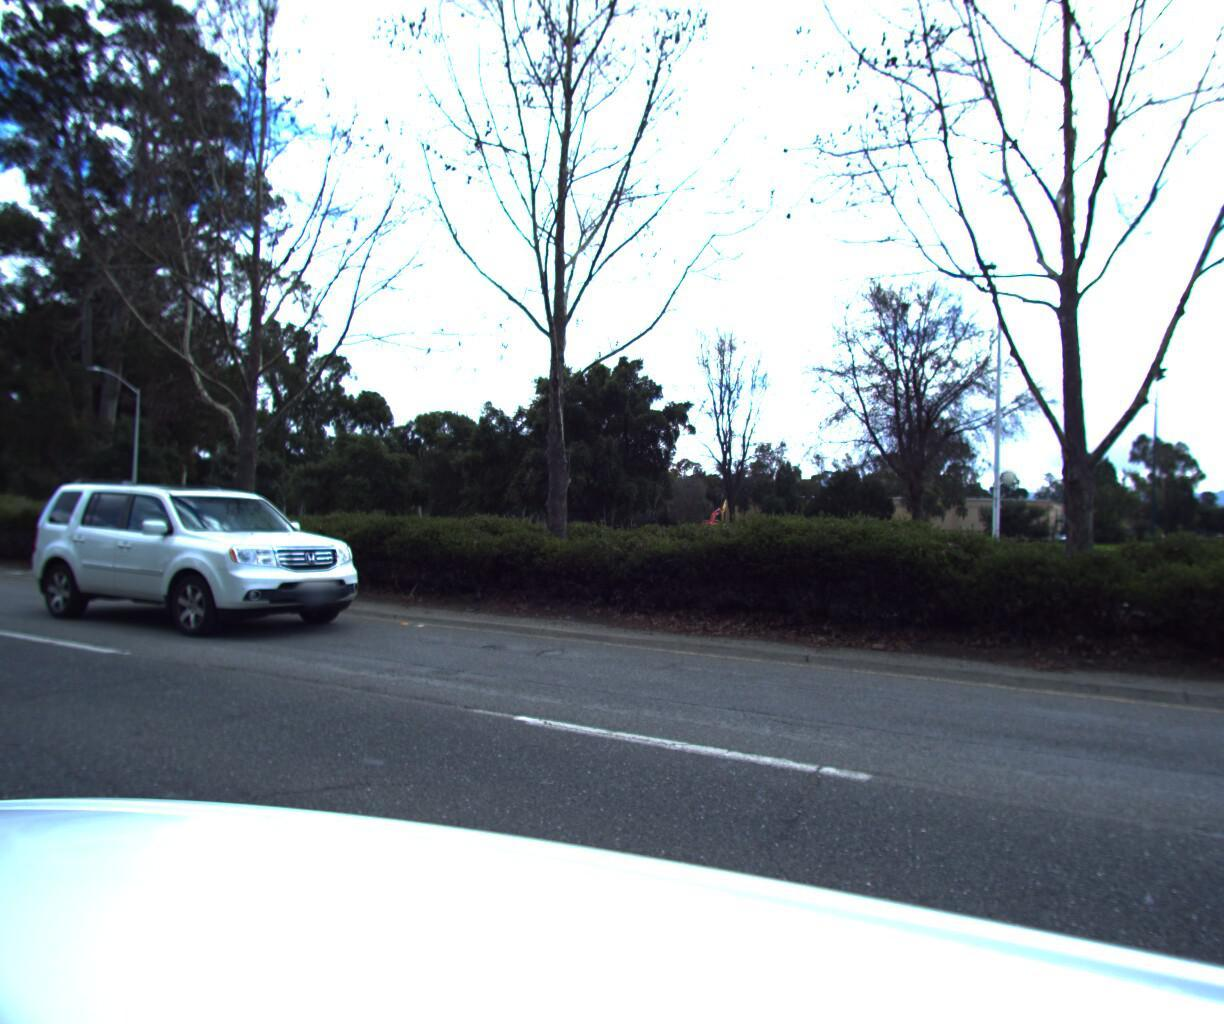car: (8, 473, 394, 649), (1186, 530, 1224, 665)
